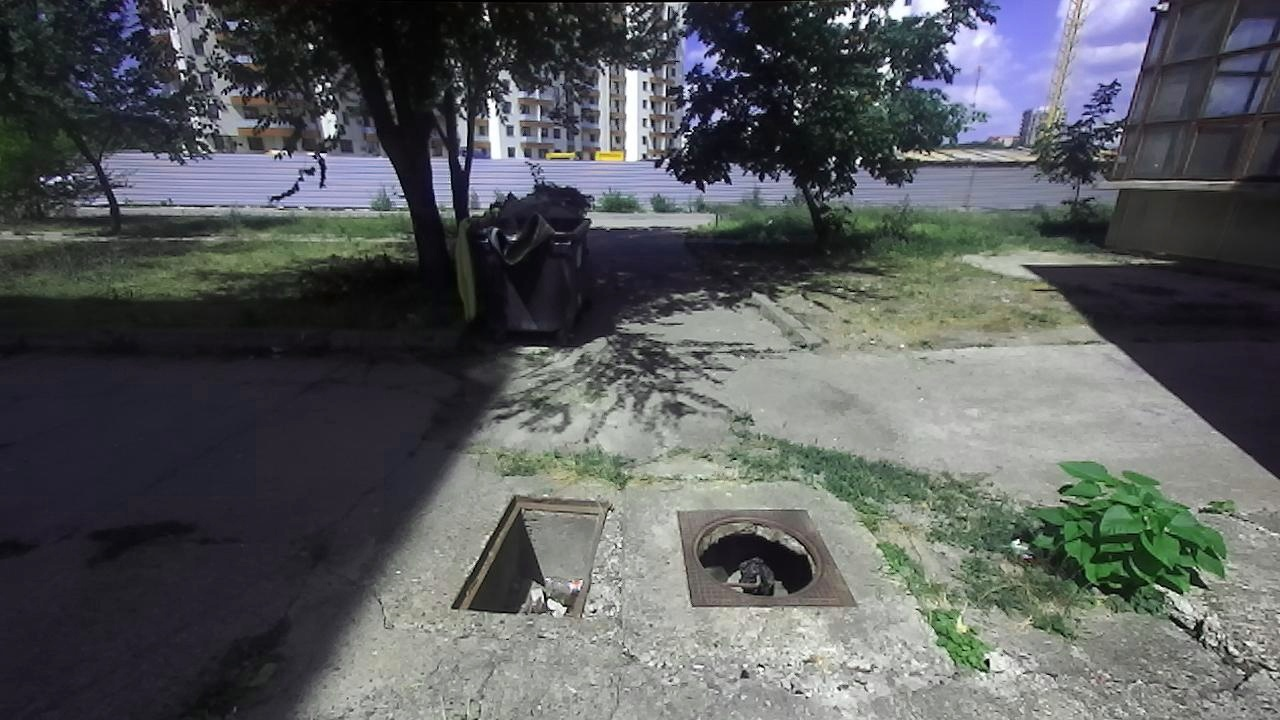drain: (450, 489, 610, 614), (690, 511, 828, 604)
